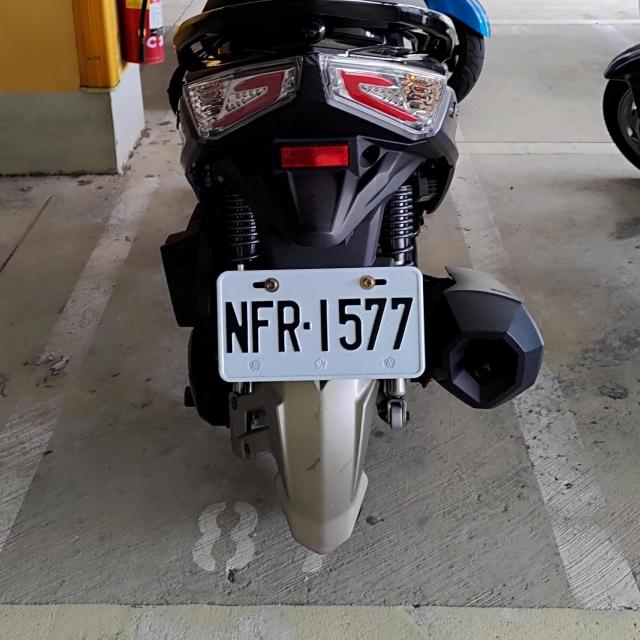W: (216, 266, 423, 380)
